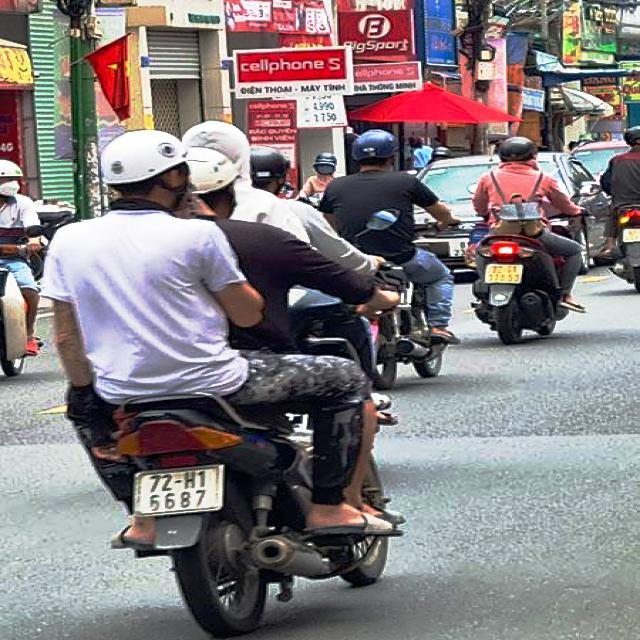license_plate: (133, 465, 226, 518)
